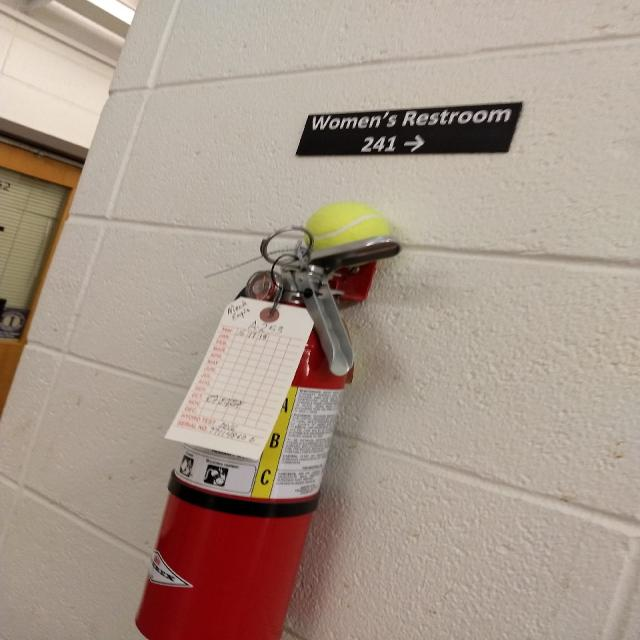Tennis-Ball: (307, 202, 392, 251)
